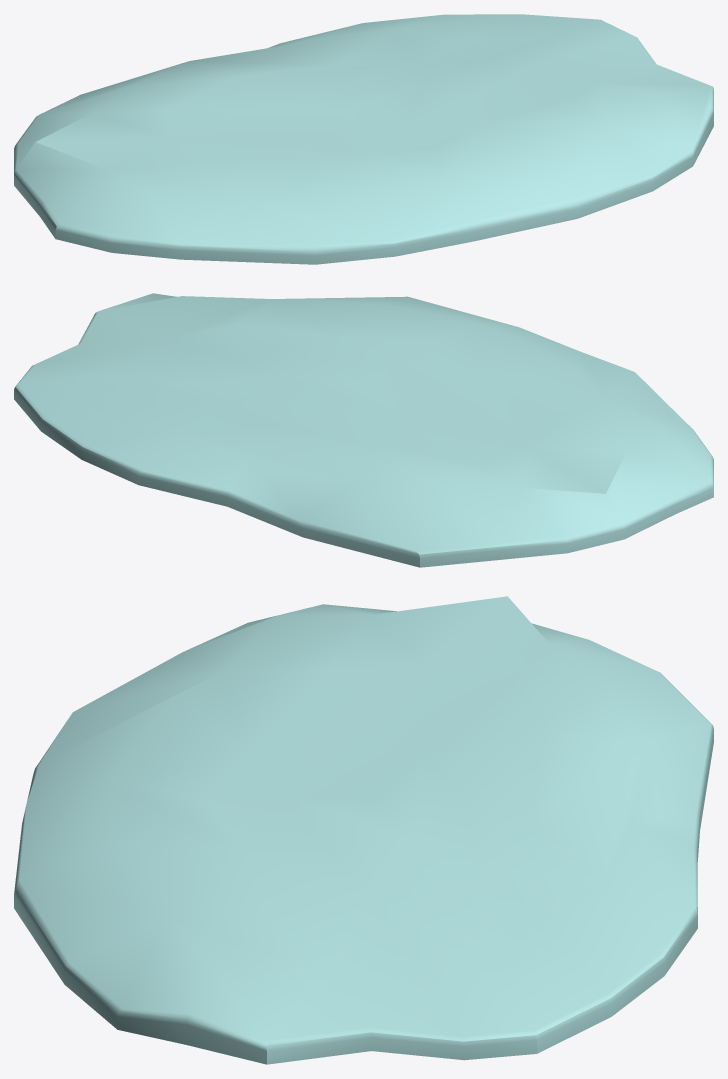
3 views of the same model, one above another, from view 1: azimuth 30°, elevation 25°; view 2: azimuth 150°, elevation 25°; view 3: azimuth 270°, elevation 25° (orthographic). The views are drawn at different scales.
Visible parts, largest first — view 1: pDisc1; view 2: pDisc1; view 3: pDisc1.
Part boxes in pixels (x1=…): pDisc1: x1=14, y1=14, x2=713, y2=264; pDisc1: x1=14, y1=293, x2=713, y2=567; pDisc1: x1=14, y1=596, x2=713, y2=1064.
Bounding box in the file's own units: 59.21 × 4.91 × 39.59.
